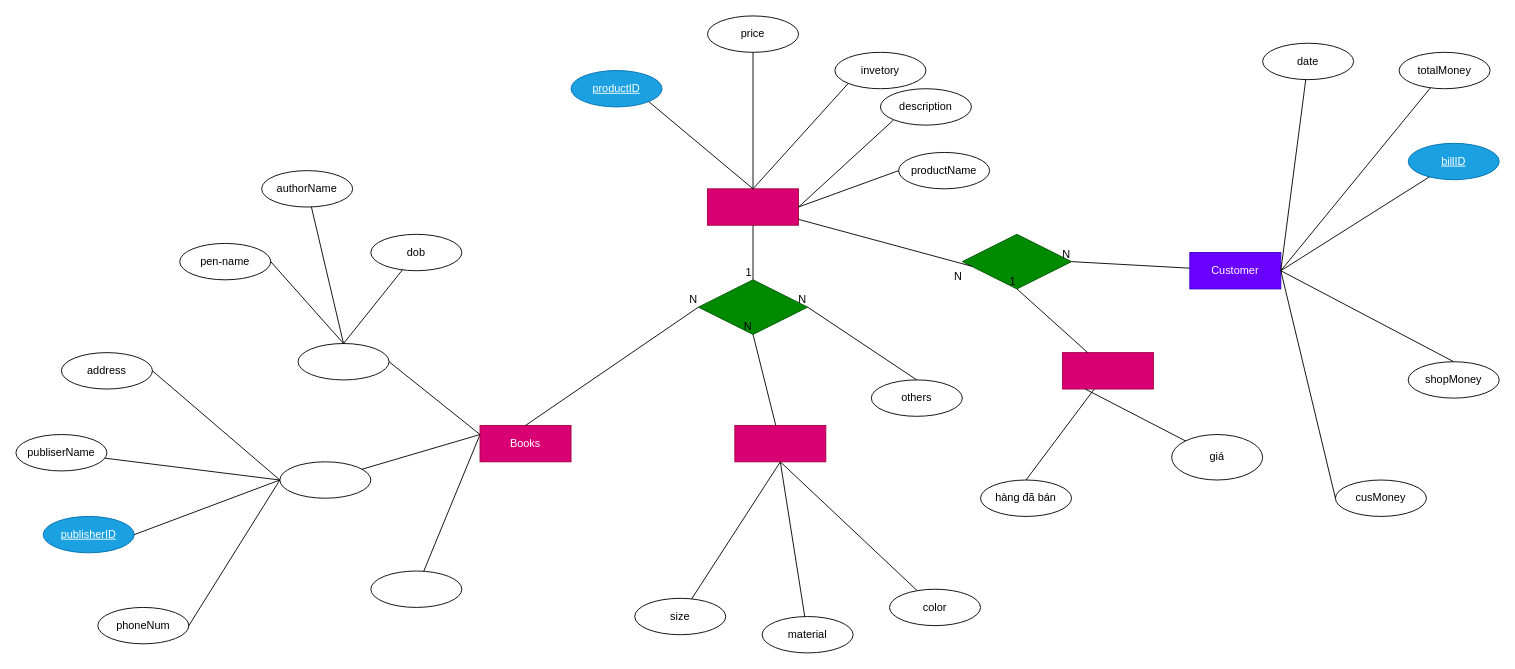
This 1515x669 diagram has some shape labels left out. Each missing label, with the centre of its shape:
"authors" goes at point (343, 361).
"Bags" goes at point (780, 443).
"buy" goes at point (1016, 261).
"information" goes at point (1107, 370).
"Products" goes at point (753, 206).
"publisher" goes at point (325, 479).
"type" goes at point (753, 306).
"year" goes at point (416, 588).
